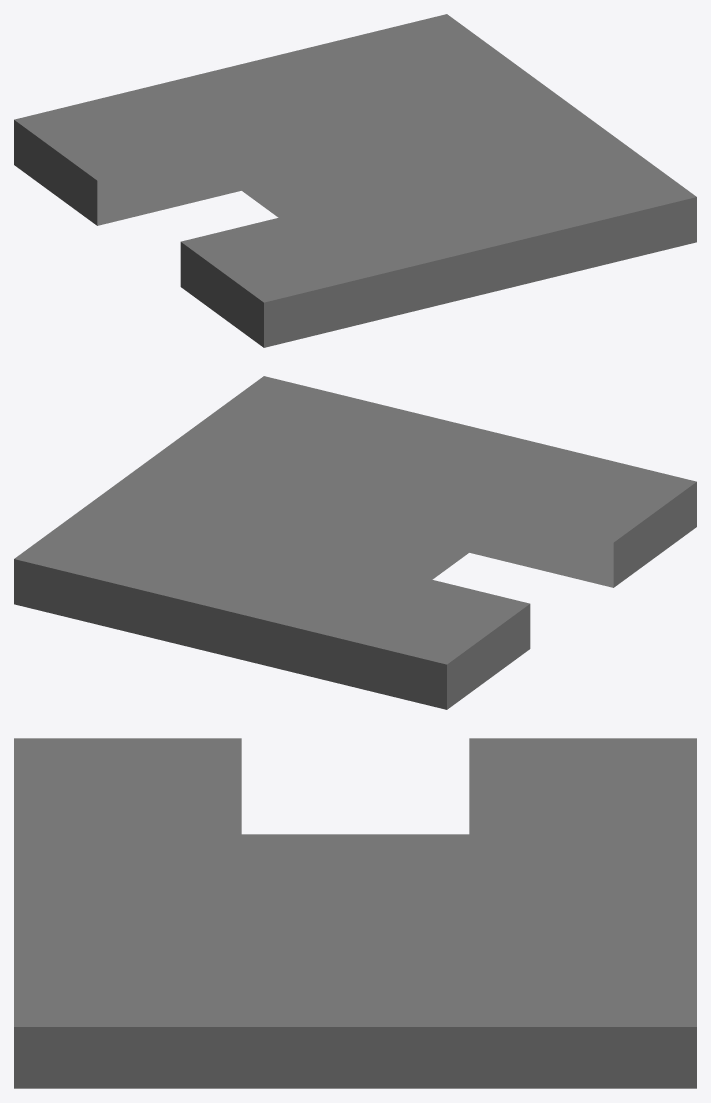
File: Stage4.obj
3 renders of one model, top to bottom at view 1: azimuth 30°, elevation 25°; view 2: azimuth 150°, elevation 25°; view 3: azimuth 270°, elevation 25°, orthographic. The views are drawn at different scales.
Parts seen in each view (by area): view 1: default; view 2: default; view 3: default.
Boxes of the visible parts, x1,y1,x2,y2 form: default: (14,14,696,347); default: (14,376,696,709); default: (14,738,696,1088).
Bounding box in the file's own units: 5 × 0.5 × 5.
Materials: 1 (1 with a texture image).
